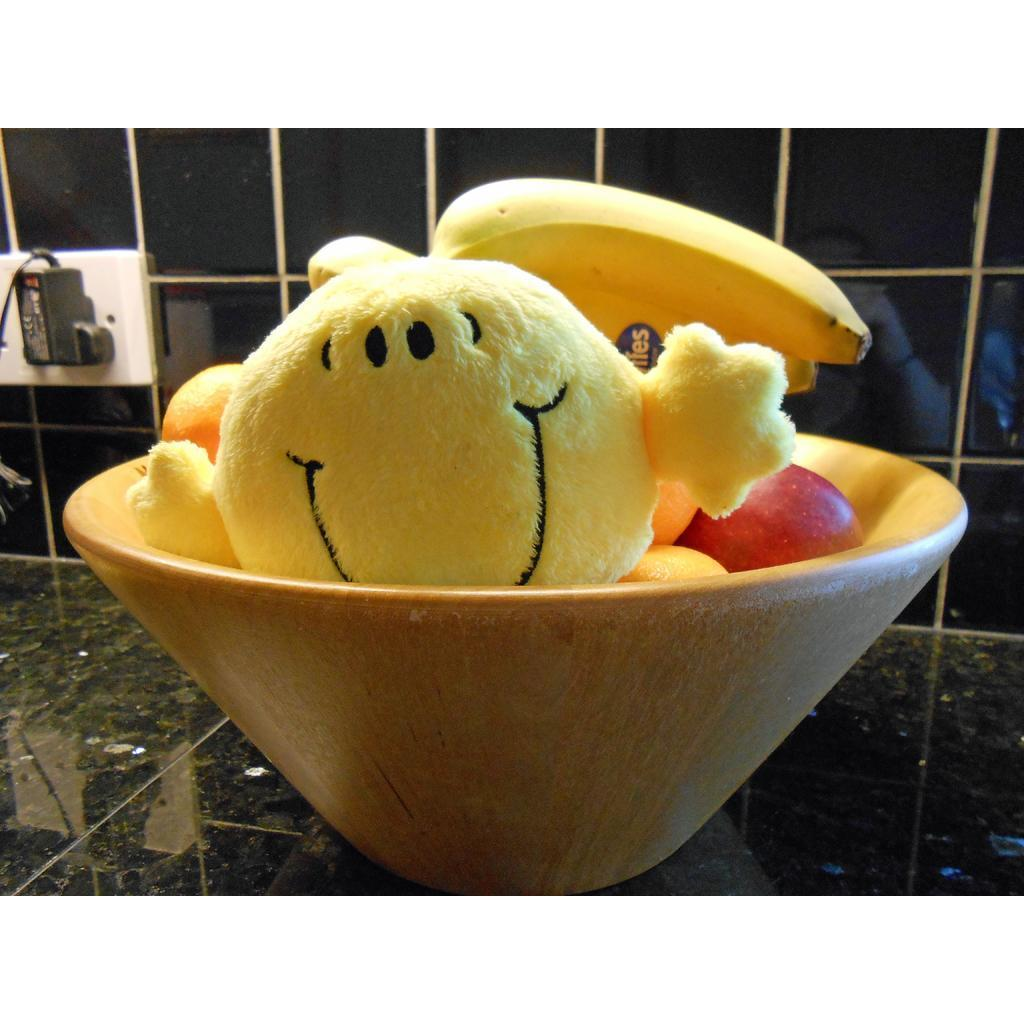banana: (429, 178, 872, 367)
